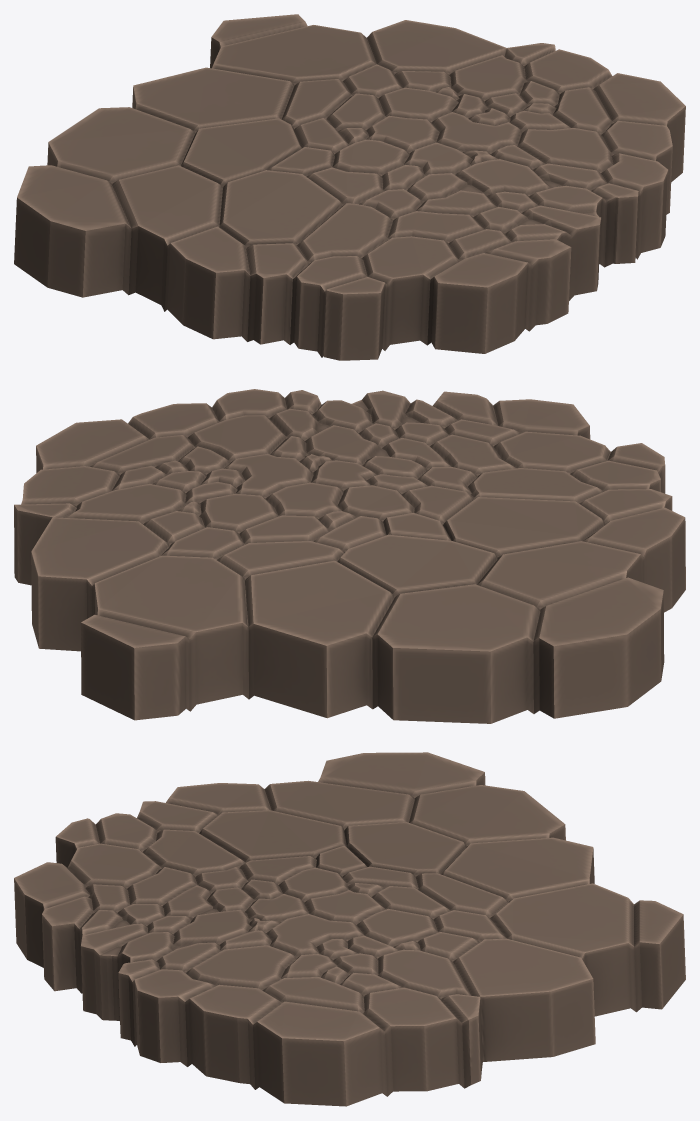
Rendered from Lava-RockTile002.fbx.
3 renders of one model, top to bottom at view 1: azimuth 30°, elevation 25°; view 2: azimuth 150°, elevation 25°; view 3: azimuth 270°, elevation 25°, orthographic. The views are drawn at different scales.
Parts seen in each view (by area): view 1: Lava-RockTile-002; view 2: Lava-RockTile-002; view 3: Lava-RockTile-002.
Part boxes in pixels (box(x1,y1,x2,y2)): Lava-RockTile-002: box(14, 14, 685, 360); Lava-RockTile-002: box(14, 389, 685, 723); Lava-RockTile-002: box(14, 752, 685, 1106).
Bounding box in the file's own units: 2297 × 316 × 2249.
